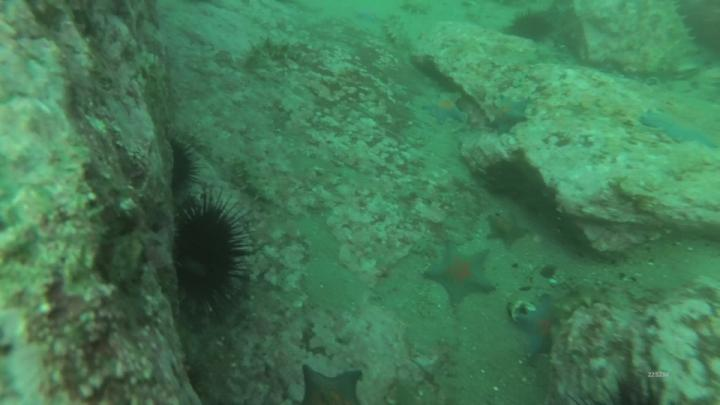echinus: (180, 202, 243, 299), (173, 134, 200, 190), (254, 40, 303, 62), (516, 12, 550, 40)
holothurian: (667, 3, 707, 59), (235, 155, 279, 204), (384, 17, 409, 47)
starfish: (427, 242, 492, 297), (643, 113, 716, 146), (299, 368, 364, 405), (520, 303, 554, 357), (490, 96, 530, 129), (427, 93, 467, 124), (490, 213, 525, 242)
